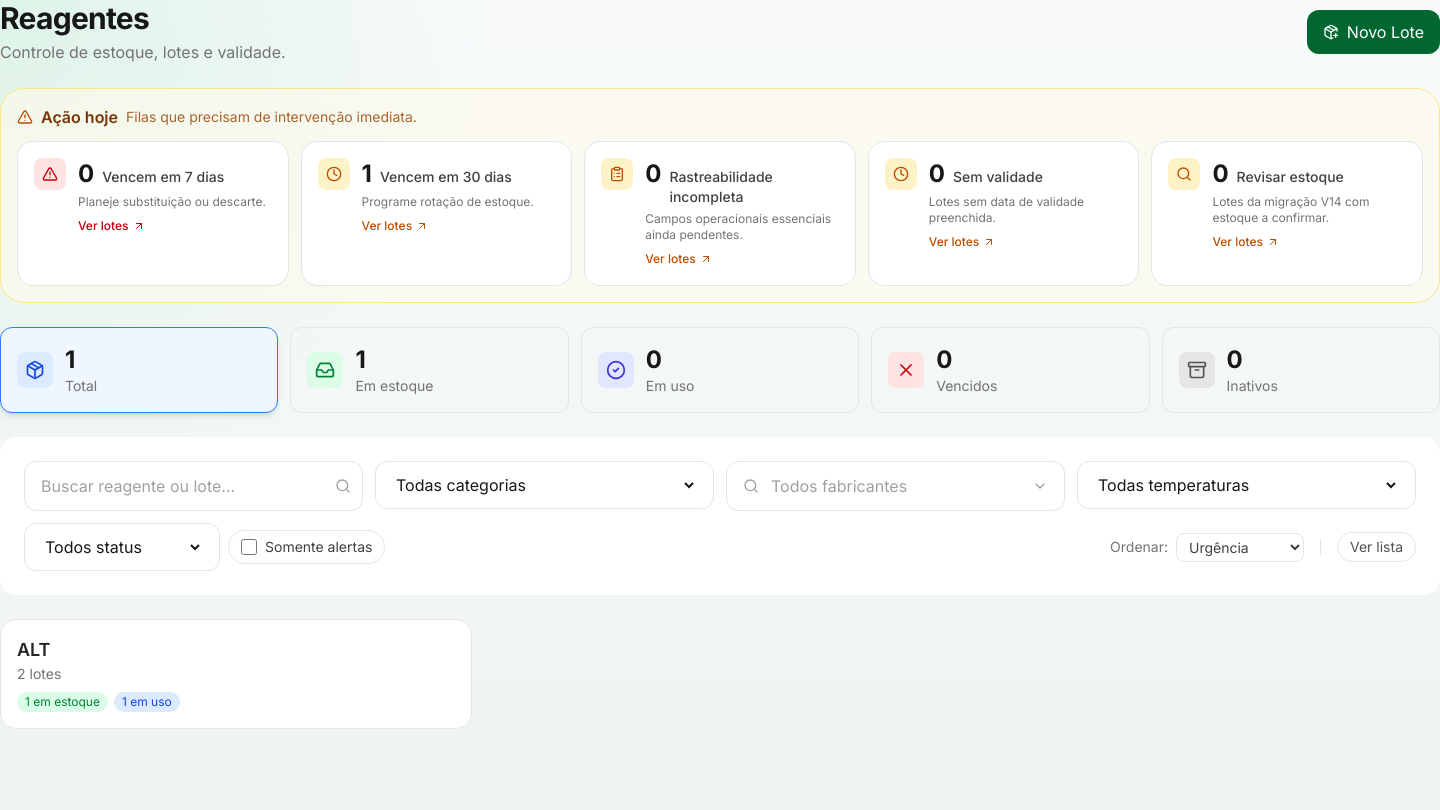
Test: ReagentesTab v3 › Apagar (admin) abre modal com confirmacao por digitacao
The width and height of the screenshot is (1440, 810).
Click the button "Ver lista" at (1376, 547), box [1337, 532, 1416, 562]
(page scrolled)
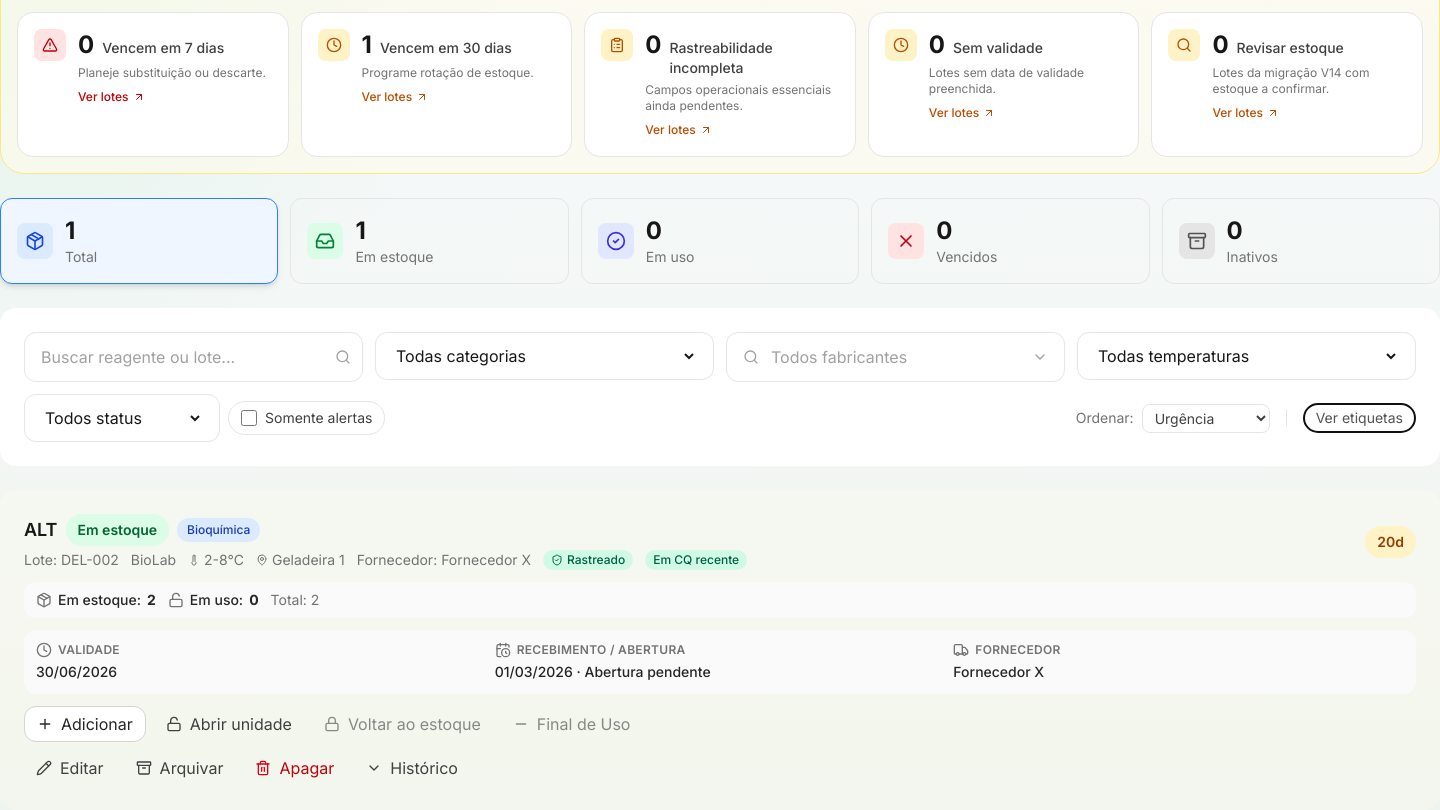
Click the button "Apagar" at (295, 768), box [244, 750, 346, 786]
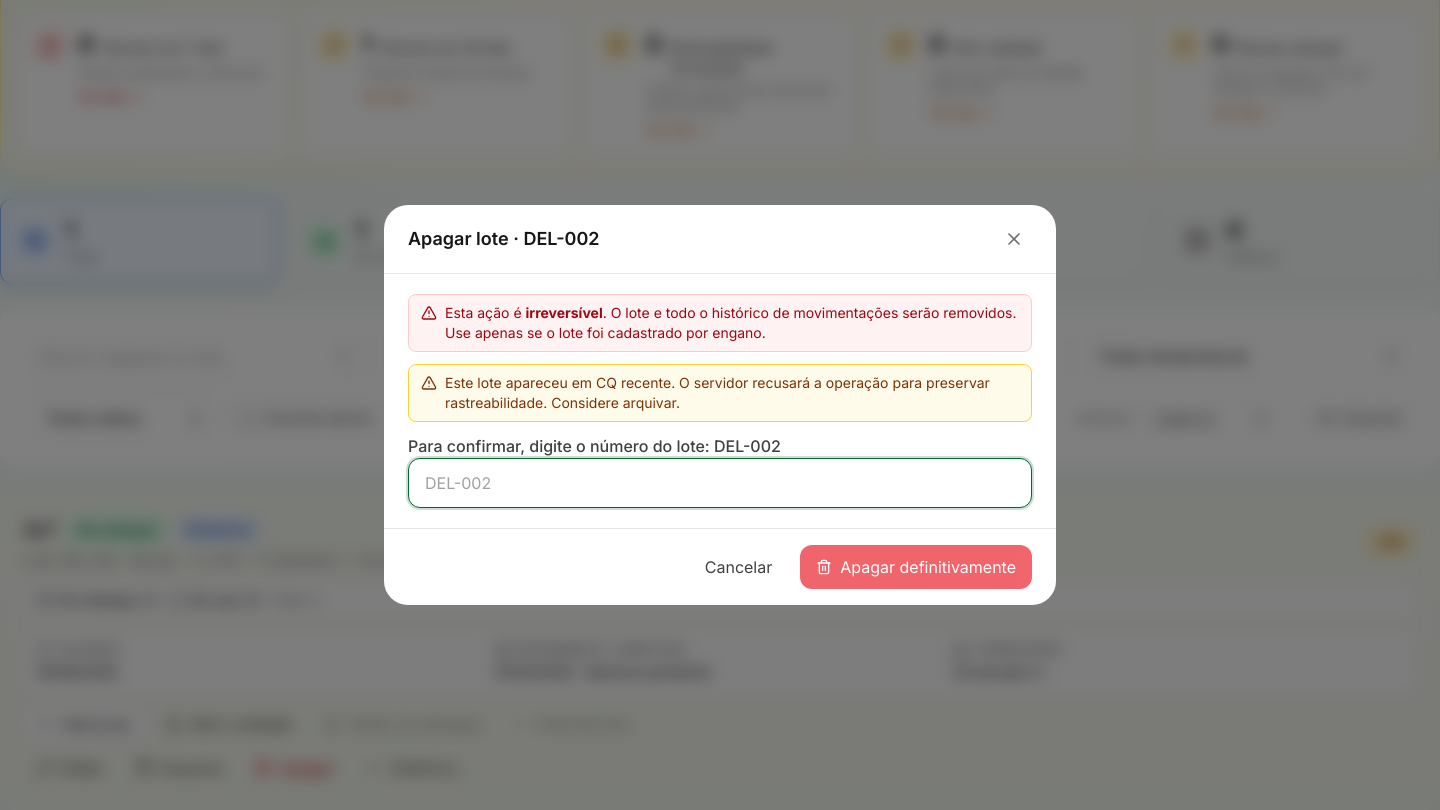
Result: the text "Para confirmar, digite o número do lote: DEL-002" is shown at [408, 436, 781, 456]
Result: the button "Apagar definitivamente" is disabled at [800, 545, 1032, 589]
